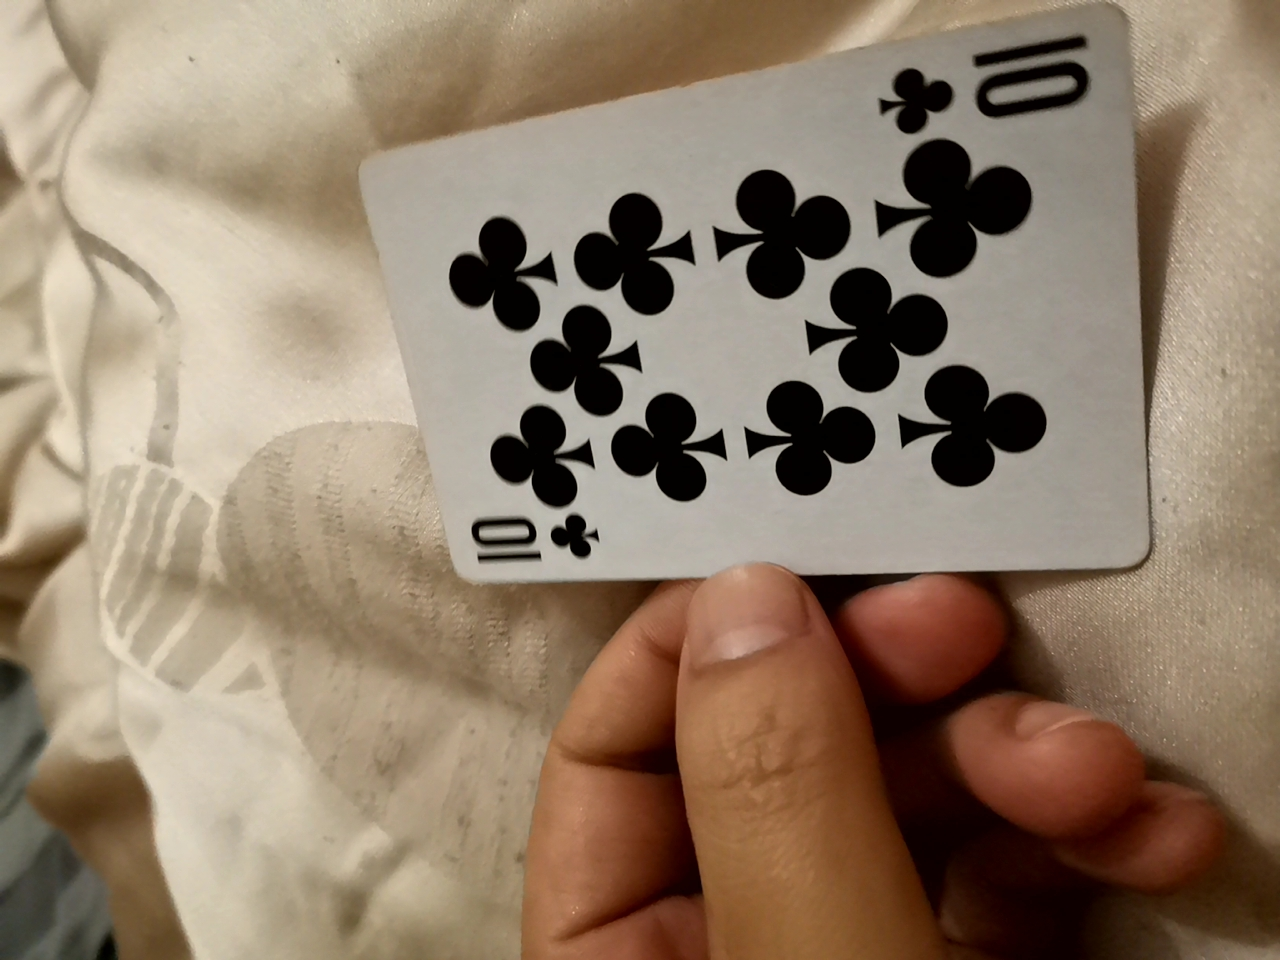mh 10: (383, 24, 1136, 588)
